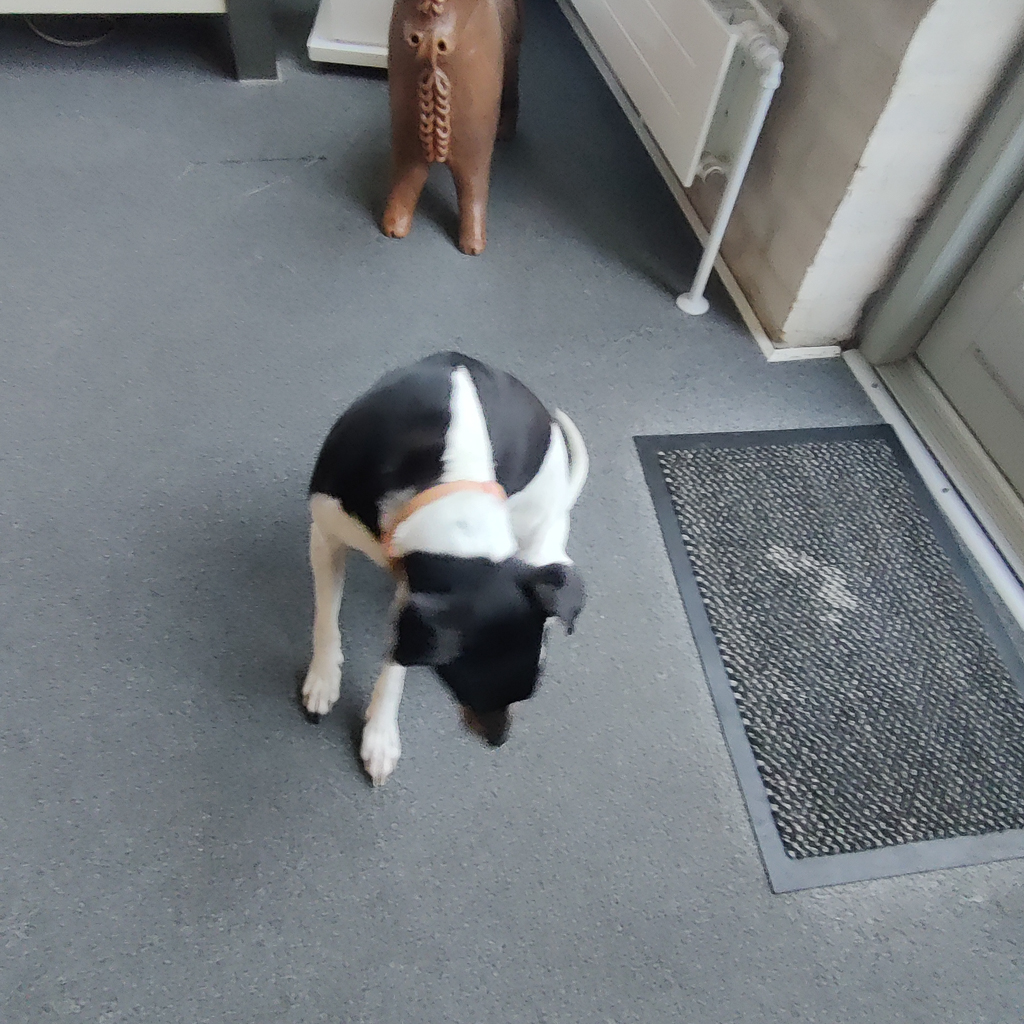Cattle: (344, 0, 561, 267)
Dog: (249, 335, 659, 835)
